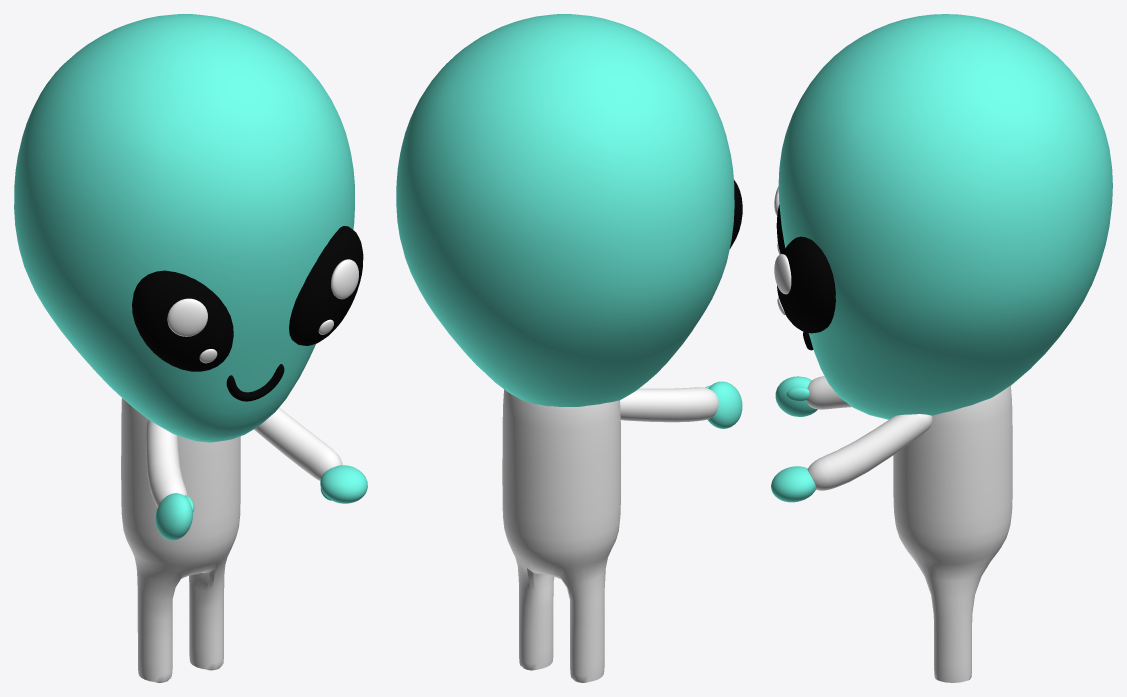
File: alien.glb
The picture shows the model from 3 angles, left to right: view 1: azimuth 30°, elevation 25°; view 2: azimuth 150°, elevation 25°; view 3: azimuth 270°, elevation 25°; orthographic projection.
Visible parts, largest first — view 1: Roundcube.002, Roundcube.003, Sphere.010, Sphere.001, Roundcube.004, Roundcube.031, Roundcube.005, Roundcube.032, Sphere.011, Sphere.002, NurbsPath.002; view 2: Roundcube.002, Roundcube.003, Roundcube.031, Roundcube.032; view 3: Roundcube.002, Roundcube.003, Roundcube.004, Sphere.001, Roundcube.005, Roundcube.032, Roundcube.031, Sphere.002.
Boxes of the visible parts, box(x1,y1,x2,y2) form: Roundcube.002: box(14, 14, 354, 442); Roundcube.003: box(121, 398, 240, 682); Sphere.010: box(132, 270, 233, 371); Sphere.001: box(289, 226, 363, 345); Roundcube.004: box(254, 407, 342, 480); Roundcube.031: box(146, 420, 187, 507); Roundcube.005: box(320, 465, 367, 503); Roundcube.032: box(155, 493, 192, 540); Sphere.011: box(167, 298, 207, 336); Sphere.002: box(331, 259, 358, 299); NurbsPath.002: box(226, 364, 284, 401); Roundcube.002: box(396, 14, 734, 406); Roundcube.003: box(502, 389, 620, 682); Roundcube.031: box(620, 387, 718, 422); Roundcube.032: box(707, 381, 742, 428); Roundcube.002: box(778, 14, 1112, 419); Roundcube.003: box(893, 385, 1012, 682); Roundcube.004: box(807, 414, 932, 490); Sphere.001: box(777, 236, 835, 333); Roundcube.005: box(771, 466, 816, 502); Roundcube.032: box(775, 376, 817, 416); Roundcube.031: box(806, 376, 851, 409); Sphere.002: box(774, 254, 791, 294).
Size of the model in its own units: 1.04 by 2.15 by 1.05.
